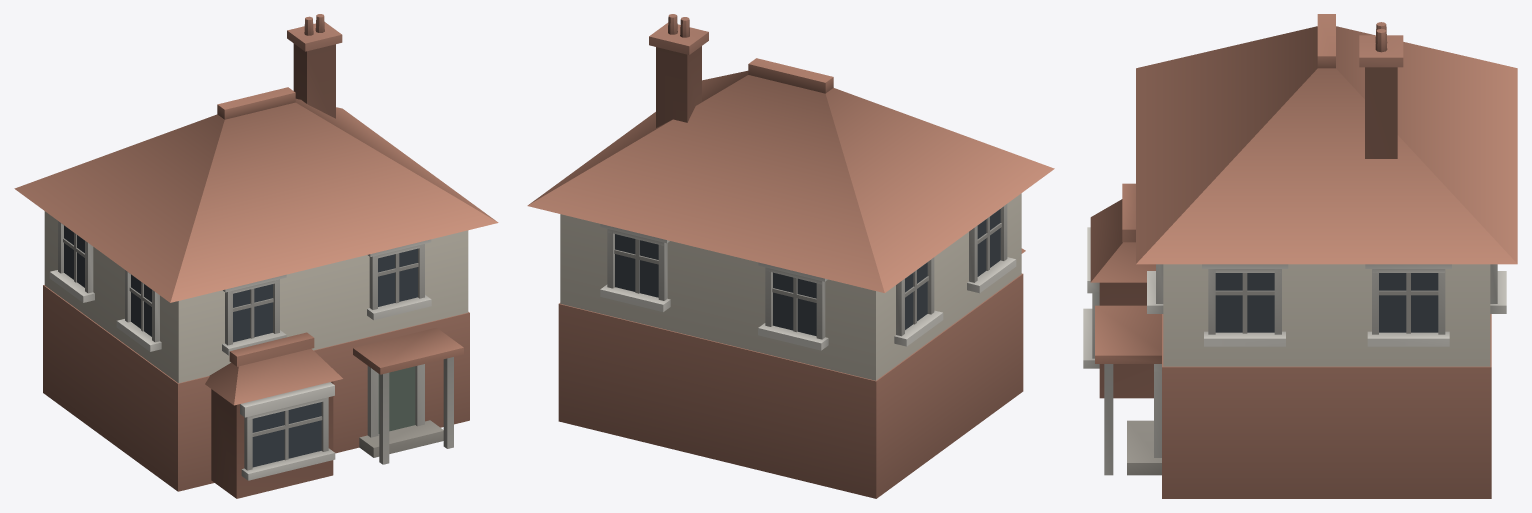
The model's file is house_modern_0.glb.
3 views of the same model, side by side, from view 1: azimuth 30°, elevation 25°; view 2: azimuth 150°, elevation 25°; view 3: azimuth 270°, elevation 25° (orthographic). The views are drawn at different scales.
Parts seen in each view (by area): view 1: Body_Roof, Body_Detail, Body_Wall; view 2: Body_Detail, Body_Roof, Body_Wall; view 3: Body_Roof, Body_Detail, Body_Wall.
Boxes of the visible parts, left/top/right/bottom form: Body_Roof: left=14, top=87, right=498, bottom=405; Body_Detail: left=43, top=14, right=469, bottom=498; Body_Wall: left=44, top=211, right=468, bottom=383; Body_Detail: left=558, top=14, right=1023, bottom=498; Body_Roof: left=527, top=58, right=1054, bottom=293; Body_Wall: left=560, top=193, right=1021, bottom=380; Body_Roof: left=1090, top=14, right=1517, bottom=363; Body_Detail: left=1083, top=22, right=1506, bottom=498; Body_Wall: left=1163, top=264, right=1490, bottom=366.
Bounding box in the file's own units: 1.02 × 1.06 × 0.956.
